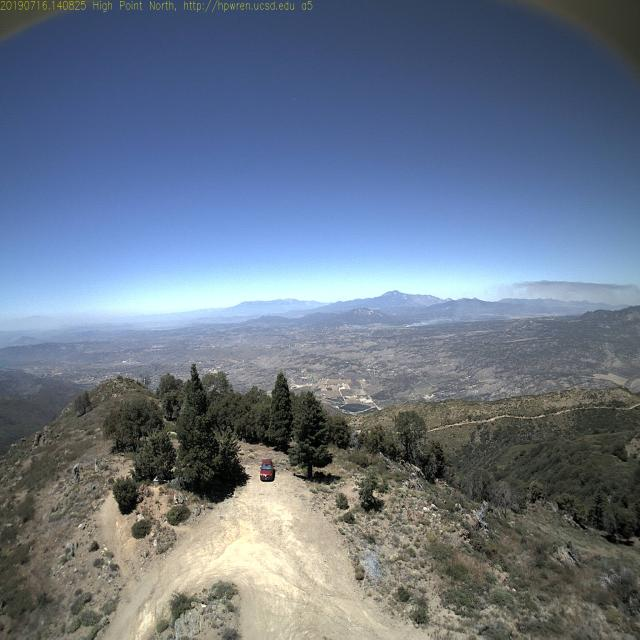smoke: (399, 308, 419, 333)
